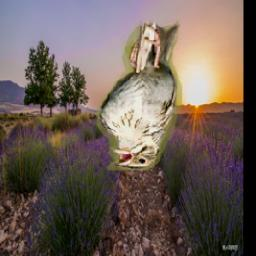Sparrow: (96, 21, 183, 171)
